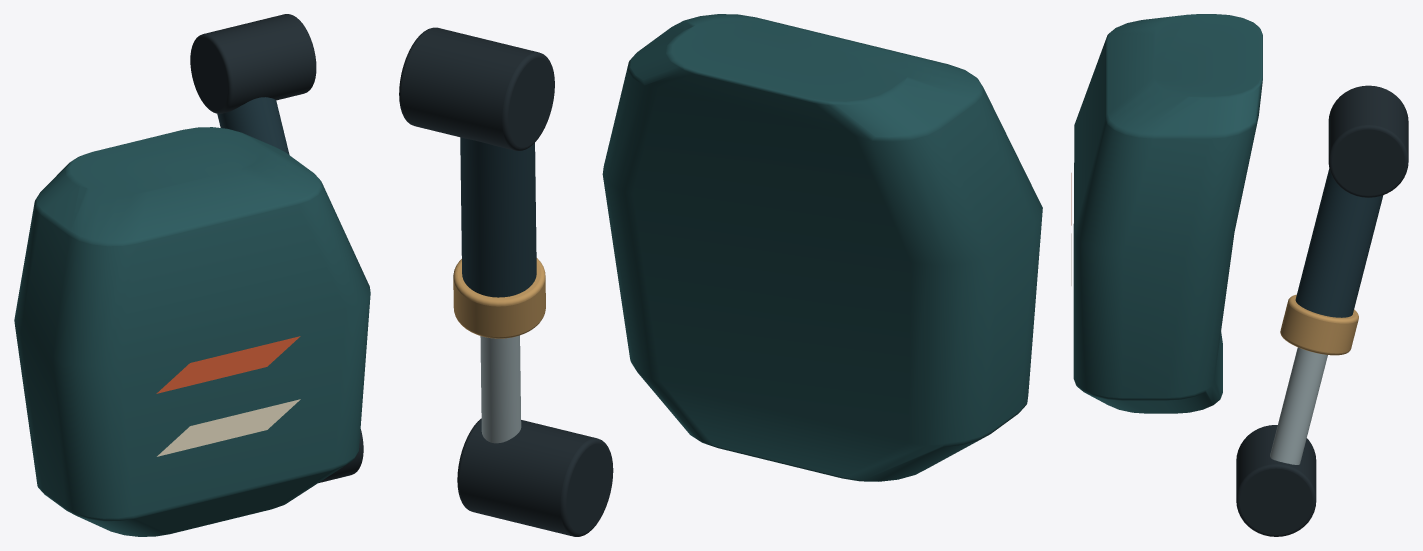
File: SM_Mk2_Leg_R_06_Fairing.fbx
3 renders of one model, left to right at view 1: azimuth 30°, elevation 25°; view 2: azimuth 150°, elevation 25°; view 3: azimuth 270°, elevation 25°, orthographic. The views are drawn at different scales.
Parts seen in each view (by area): view 1: SM_Mk2_Leg_R_06_Fairing; view 2: SM_Mk2_Leg_R_06_Fairing; view 3: SM_Mk2_Leg_R_06_Fairing.
Boxes of the visible parts, <box> form: SM_Mk2_Leg_R_06_Fairing: <box>14,14,370,536</box>; SM_Mk2_Leg_R_06_Fairing: <box>399,14,1042,536</box>; SM_Mk2_Leg_R_06_Fairing: <box>1071,14,1408,536</box>.
Size of the model in its own units: 24 by 19.37 by 26.1.
